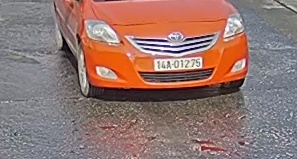vehicle plate: (152, 56, 203, 72)
